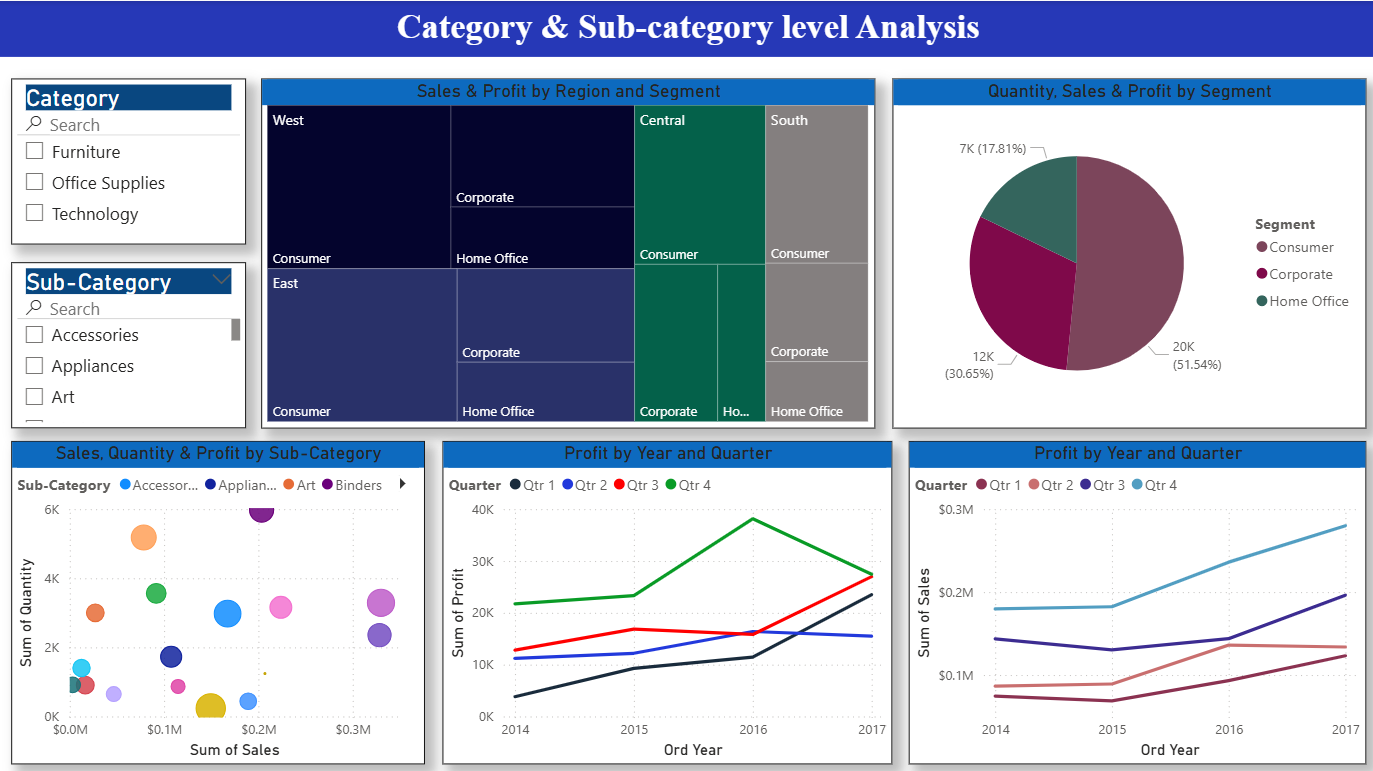

The page's visual inventory and layout, read from the dashboard file:
{"tool":"powerbi","page":{"name":"Category & Sub-category","canvas":[1280,720],"ordinal":2},"visuals":[{"type":"slicer","fields":{"Values":["Superstore.Category"]},"box":[10.5,72.1,218.6,154.7],"z":0},{"type":"textbox","box":[0,0,1280.2,52.3],"z":1000},{"type":"slicer","fields":{"Values":["Superstore.Sub-Category"]},"box":[10.5,243,218.6,154.7],"z":2000},{"type":"treemap","title":"Sales & Profit by Region and Segment","fields":{"Values":["Sum(Superstore.Sales)"],"Group":["Superstore.Region"],"Details":["Superstore.Segment"]},"box":[243,72.1,570.9,325.6],"z":3000},{"type":"pieChart","title":"Quantity, Sales & Profit by Segment","fields":{"Category":["Superstore.Segment"],"Y":["Sum(Superstore.Quantity)"]},"box":[830.2,72.1,440.7,325.6],"z":4000},{"type":"scatterChart","title":"Sales, Quantity & Profit by Sub-Category","fields":{"Y":["Superstore.Quantity"],"X":["Sum(Superstore.Sales)"],"Series":["Superstore.Sub-Category"],"Size":["Sum(Superstore.Profit)"]},"box":[10.5,409.3,384.9,301.2],"z":5000},{"type":"lineChart","title":"Profit by Year and Quarter","fields":{"Y":["Sum(Superstore.Profit)"],"Category":["Superstore.Ord Year"],"Series":["Superstore.Quarter"]},"box":[411.6,409.3,418.6,301.2],"z":6000},{"type":"lineChart","title":"Profit by Year and Quarter","fields":{"Category":["Superstore.Ord Year"],"Series":["Superstore.Quarter"],"Y":["Sum(Superstore.Sales)"]},"box":[845.4,409.3,425.6,301.2],"z":7000}]}

Visuals, with their boxes in screenshot pixels (x1, y1, x2, y2), scaled from the page's 1280x720 canvas onto the 1373x771 screenshot:
slicer - Superstore.Category: x1=11, y1=77, x2=246, y2=243
textbox: x1=0, y1=0, x2=1372, y2=56
slicer - Superstore.Sub-Category: x1=11, y1=260, x2=246, y2=426
"Sales & Profit by Region and Segment" treemap: x1=261, y1=77, x2=873, y2=426
"Quantity, Sales & Profit by Segment" pieChart: x1=891, y1=77, x2=1363, y2=426
"Sales, Quantity & Profit by Sub-Category" scatterChart: x1=11, y1=438, x2=424, y2=761
"Profit by Year and Quarter" lineChart: x1=442, y1=438, x2=891, y2=761
"Profit by Year and Quarter" lineChart: x1=907, y1=438, x2=1363, y2=761
